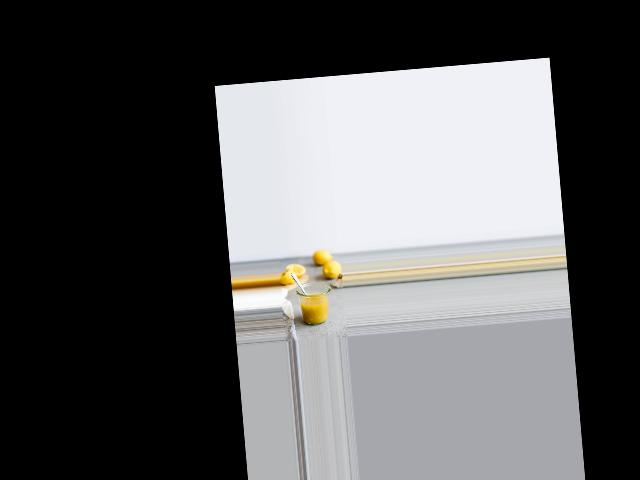lemon: (312, 246, 335, 263)
